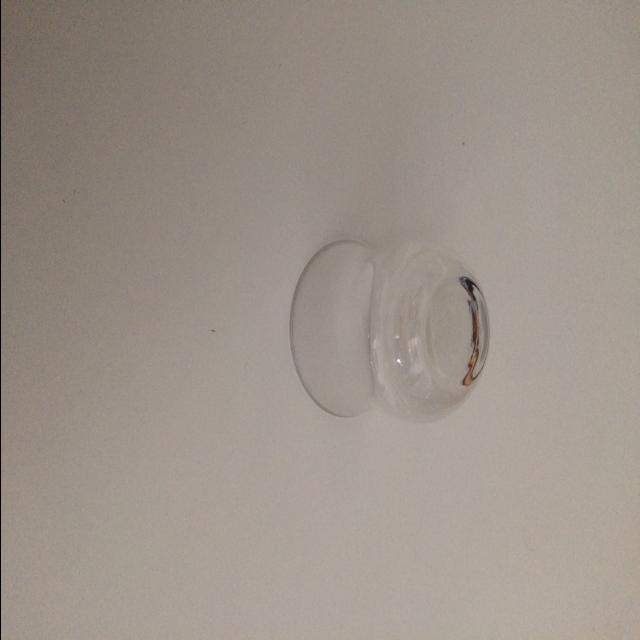glass: (290, 228, 490, 434)
